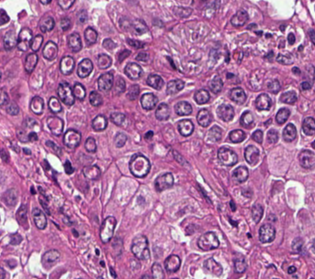nucleus: (129, 153, 150, 177), (131, 235, 149, 259), (197, 231, 218, 250), (57, 82, 74, 105), (100, 216, 115, 242), (217, 147, 237, 165), (154, 173, 173, 191), (41, 249, 59, 267), (124, 62, 142, 79), (63, 129, 80, 147), (204, 258, 222, 275), (97, 72, 113, 91), (47, 116, 63, 135), (140, 93, 157, 110), (259, 224, 275, 242), (164, 254, 180, 272), (77, 58, 92, 77), (32, 208, 46, 228), (255, 93, 271, 110), (217, 104, 233, 121), (177, 119, 193, 136), (42, 41, 57, 59), (166, 79, 184, 94), (197, 108, 212, 126), (298, 150, 313, 168), (244, 145, 258, 164), (232, 166, 248, 182), (146, 74, 163, 89), (67, 33, 81, 51), (60, 56, 74, 74), (282, 123, 296, 141), (82, 165, 100, 179), (230, 87, 245, 103), (208, 76, 222, 93), (155, 103, 169, 120), (30, 96, 43, 114), (92, 115, 107, 130), (175, 101, 191, 115), (84, 27, 97, 44), (302, 117, 314, 135), (194, 89, 209, 103), (275, 108, 289, 123), (207, 126, 221, 141), (251, 203, 262, 222), (72, 83, 85, 99), (240, 111, 253, 127), (229, 129, 245, 142), (30, 34, 42, 51), (234, 256, 246, 273), (97, 54, 111, 68), (266, 79, 280, 93), (89, 91, 102, 106), (48, 97, 61, 112), (151, 263, 164, 278), (280, 91, 296, 103), (276, 53, 293, 64), (110, 112, 124, 125), (127, 84, 139, 99), (114, 77, 124, 94), (114, 133, 126, 147), (46, 141, 60, 153), (85, 137, 96, 152), (102, 38, 115, 50), (267, 129, 278, 143), (40, 196, 49, 213), (118, 49, 130, 61), (127, 39, 142, 48), (252, 130, 262, 143), (292, 238, 302, 251), (64, 161, 73, 174), (136, 52, 147, 61), (28, 132, 37, 141), (301, 81, 310, 89), (288, 33, 294, 44), (309, 30, 314, 43), (145, 131, 152, 139), (288, 266, 296, 273), (110, 268, 115, 277), (293, 67, 299, 73), (142, 275, 152, 278), (311, 141, 314, 148), (31, 187, 34, 193)
